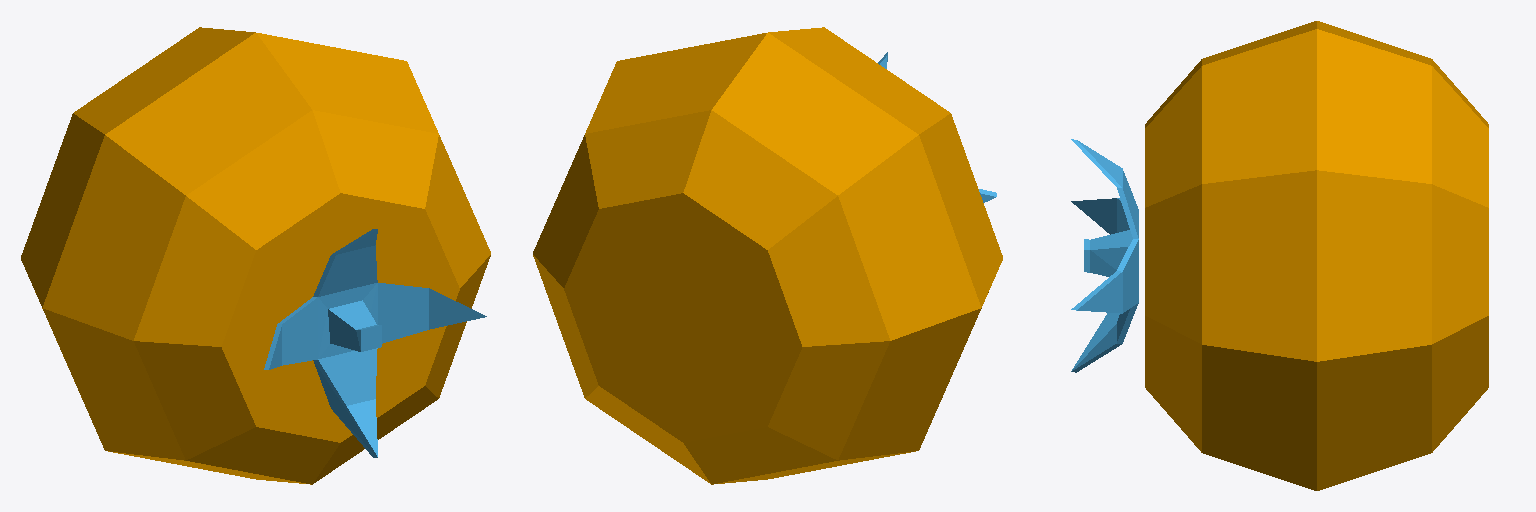
The robot description file, URDF, robot "cherrytomato":
<?xml version="1.0"?>
<robot name="cherrytomato">
  <link name="fruit">
    <inertial>
        <origin rpy="0 0 0" xyz="0 0 0"/>
        <mass value="0.01"/>
        <inertia ixx="4.4e-5" ixy="0" ixz="0" iyy="0" iyz="0" izz="4.4e-5"/>
    </inertial>
    <visual>
      <geometry>
        <mesh filename="smallFruit.obj"/>
      </geometry>
    </visual>
    <collision>
      <geometry>
        <mesh filename="smallFruit.obj"/>
      </geometry>
      <surface>
           <bounce restitution_coefficient = "0.1"/>
      </surface>
    </collision>
  </link>
  <link name="tail">
    <inertial>
        <origin rpy="0 0 0" xyz="0 0 0"/>
        <mass value="0.001"/>
        <inertia ixx="1.9e-5" ixy="0" ixz="0" iyy="6.8e-6" iyz="0" izz="1.2e-5"/>
    </inertial>
    <visual>
      <geometry>
        <mesh filename="smallTail.obj"/>
      </geometry>
    </visual>
    <collision>
      <geometry>
        <mesh filename="smallTailCollider.obj"/>
      </geometry>
      <surface>
           <bounce restitution_coefficient = "0.1"/>
      </surface>
    </collision>
  </link>
  <joint name="fruit_to_tail" type="fixed">
    <parent link="fruit"/>
    <child link="tail"/>
    <origin rpy="0 0 0" xyz="0 -0.02225 0"/>
  </joint>
</robot>

--- What the picture shows (computed from the rendered views, not written in the file) ---
3 views of the same robot in one strip: view 1: azimuth 30°, elevation 25°; view 2: azimuth 150°, elevation 25°; view 3: azimuth 270°, elevation 25° (orthographic).
Model cherrytomato with 2 links and 1 joints (1 fixed), rooted at fruit, posed every joint at zero.
Links seen in each view (by area): view 1: fruit, tail; view 2: fruit; view 3: fruit, tail.
Link boxes in pixels (bbox=[...]): fruit: bbox=[21, 27, 490, 484]; tail: bbox=[264, 229, 486, 457]; fruit: bbox=[533, 27, 1002, 484]; fruit: bbox=[1145, 21, 1488, 490]; tail: bbox=[1071, 139, 1138, 372].
Size in the robot's own frame: 0.0848 by 0.0708 by 0.0848 metres.
Meshes: 2 distinct files referenced, 2 mesh visuals loaded (2 OBJ).